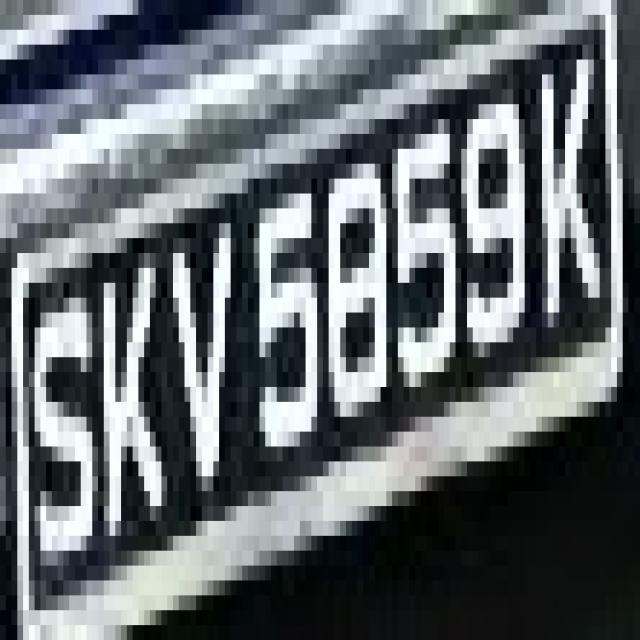5: (248, 164, 329, 536), (386, 104, 467, 447)
8: (317, 119, 398, 476)
9: (456, 45, 536, 387)
K: (86, 164, 173, 550), (531, 60, 611, 357)
S: (29, 268, 109, 580)
V: (167, 164, 248, 536)
